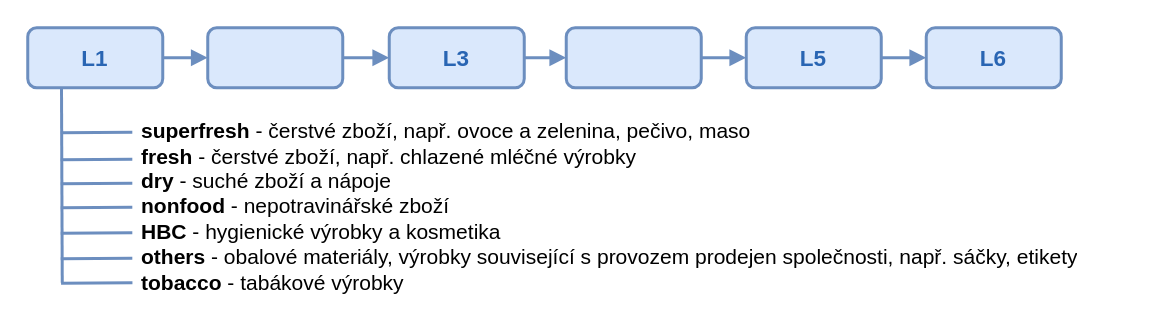
Some shapes in this 1176 by 323 pixel diagram are drawn without their labels. The shapes that lost their labels are listed below. From the top down, each one's centre as x and y in pixels, then its label:
(x=275, y=57): L2
(x=633, y=57): L4
